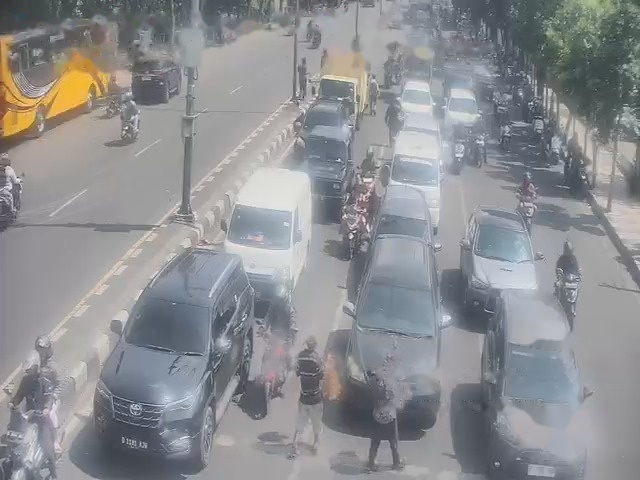Bis: (0, 34, 91, 148)
Mobil: (113, 246, 250, 458), (343, 234, 451, 428), (488, 294, 576, 471), (226, 168, 312, 287), (468, 208, 534, 293), (302, 126, 353, 216), (389, 133, 440, 203), (374, 185, 432, 242), (298, 99, 352, 138), (399, 80, 434, 115), (445, 89, 479, 125)
Motor: (0, 408, 46, 479), (257, 332, 292, 415), (555, 268, 580, 328), (341, 204, 367, 260), (557, 271, 580, 326), (0, 173, 24, 225), (516, 192, 536, 232), (570, 158, 588, 198), (451, 140, 465, 174), (121, 117, 138, 141), (474, 134, 486, 167), (549, 135, 561, 164), (105, 96, 121, 117), (532, 115, 544, 142), (500, 123, 511, 151), (383, 61, 392, 88), (389, 129, 400, 148), (512, 87, 523, 105), (311, 31, 321, 48), (306, 21, 313, 41), (344, 1, 348, 12)
